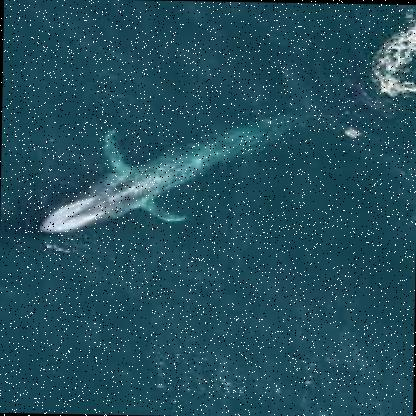blue_whale: (21, 95, 335, 242)
